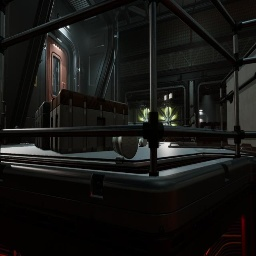0: (111, 137, 138, 159), (138, 138, 147, 146)
EmergencyPhone ,: (34, 74, 37, 87)
FireExtinguisher ]: (159, 139, 160, 141)
FirstAidBox ,: (146, 139, 148, 141)
